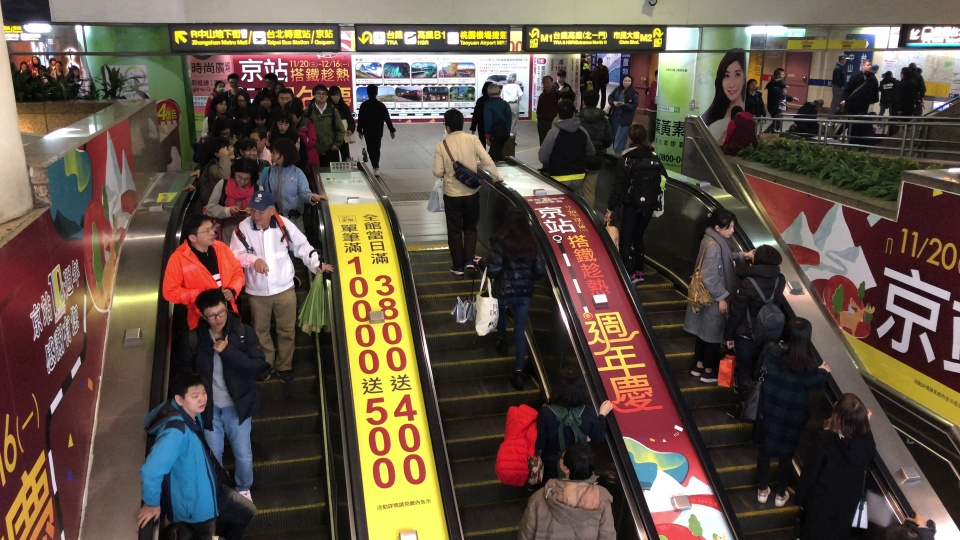person_head: (829, 392, 868, 438), (557, 441, 597, 482), (550, 366, 588, 407), (173, 372, 208, 414), (194, 288, 228, 328), (182, 212, 215, 247), (245, 189, 276, 225), (782, 316, 812, 350), (707, 207, 737, 239), (230, 157, 259, 187), (269, 138, 299, 167), (501, 205, 530, 234), (751, 244, 782, 267), (442, 108, 464, 135), (283, 96, 303, 124), (211, 138, 235, 160), (627, 123, 649, 147), (239, 137, 258, 161), (248, 127, 267, 149), (556, 98, 575, 120), (274, 111, 292, 134), (276, 87, 294, 108), (214, 121, 232, 140), (581, 89, 599, 108), (252, 106, 269, 126), (326, 85, 343, 105), (210, 95, 227, 114), (236, 110, 253, 129), (311, 84, 328, 102), (234, 89, 250, 107), (263, 72, 278, 89), (480, 81, 495, 97), (258, 91, 271, 109), (729, 105, 744, 120), (227, 73, 240, 89), (365, 83, 378, 99), (486, 83, 500, 97), (213, 80, 226, 94), (899, 66, 912, 80), (772, 67, 785, 80), (859, 59, 872, 72), (555, 69, 567, 83), (542, 75, 553, 90), (273, 82, 285, 95), (68, 65, 80, 77), (505, 72, 517, 84), (746, 78, 758, 90), (621, 75, 632, 88), (837, 54, 850, 65), (812, 98, 824, 109), (866, 111, 877, 121), (19, 61, 28, 72), (37, 65, 47, 74), (870, 64, 879, 74), (883, 70, 893, 79), (908, 62, 917, 72), (31, 55, 40, 64), (775, 70, 784, 79), (55, 60, 62, 71), (49, 57, 56, 66), (596, 57, 603, 65), (580, 53, 586, 60)
person_vbox: (135, 372, 258, 540), (227, 188, 333, 382), (177, 288, 266, 505), (748, 316, 831, 507), (472, 205, 546, 390), (681, 207, 757, 384), (792, 392, 877, 540), (431, 108, 504, 276), (721, 243, 786, 419), (603, 123, 668, 284), (516, 441, 618, 540), (161, 212, 246, 330), (534, 366, 613, 479), (256, 138, 329, 238), (537, 98, 596, 197), (205, 156, 265, 246), (180, 137, 271, 192), (573, 89, 612, 210), (833, 59, 880, 140), (356, 83, 396, 178), (303, 83, 345, 166), (188, 120, 240, 179), (283, 96, 320, 175), (535, 75, 562, 171), (607, 75, 639, 154), (198, 138, 236, 204), (269, 110, 309, 172), (762, 67, 799, 134), (326, 85, 356, 166), (887, 66, 919, 138), (483, 83, 512, 161), (719, 105, 758, 154), (469, 80, 495, 152), (501, 72, 524, 146), (846, 111, 888, 150), (826, 53, 850, 121), (201, 96, 235, 142), (876, 70, 899, 126), (792, 97, 824, 136), (248, 127, 276, 167), (590, 57, 609, 110), (251, 71, 279, 106), (645, 70, 658, 145), (908, 62, 926, 116), (744, 78, 766, 122), (226, 73, 251, 108), (203, 80, 227, 116), (553, 68, 576, 104), (773, 70, 790, 112), (35, 64, 54, 85), (65, 64, 80, 84), (49, 61, 62, 80), (29, 55, 40, 76), (580, 53, 591, 72), (46, 57, 56, 75)
